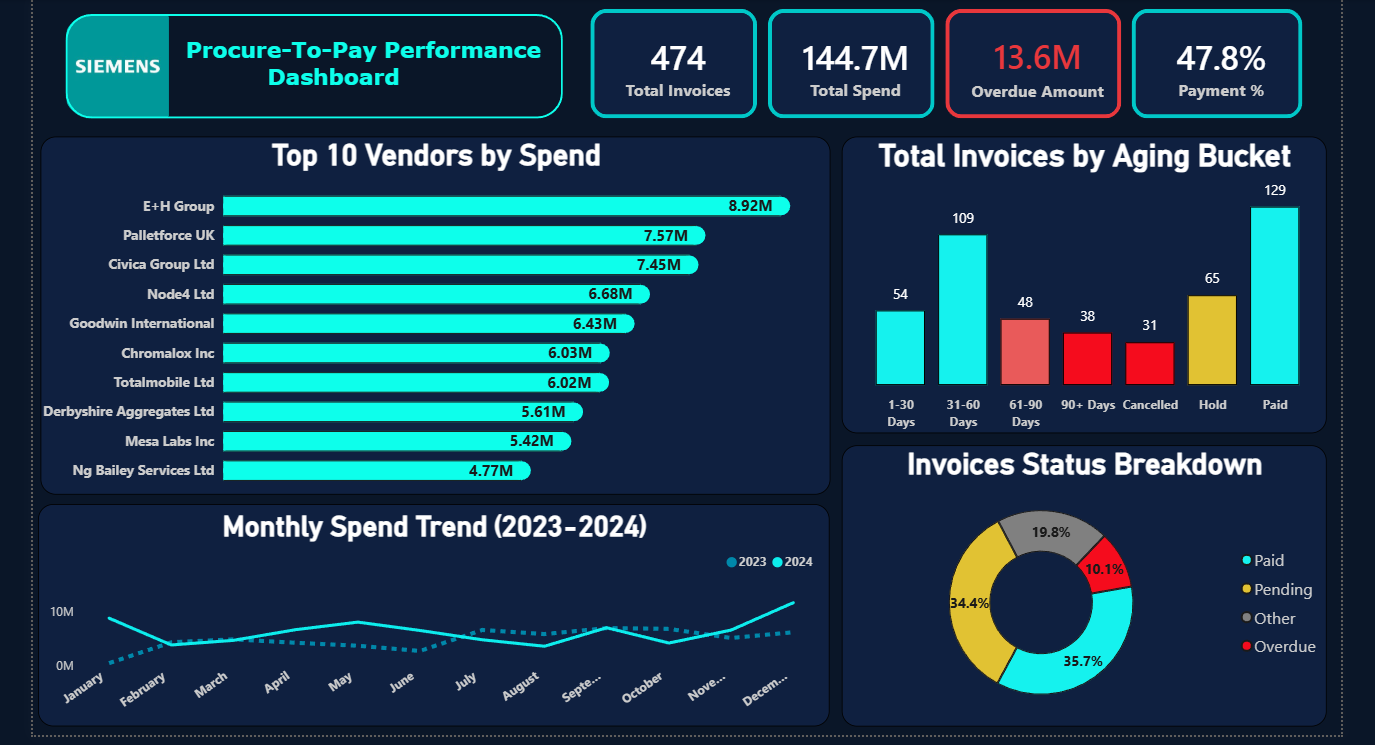

Layout of this report page (visuals, bound fields, positions):
{"tool":"powerbi","page":{"name":"Overview","canvas":[1280,720],"ordinal":0},"visuals":[{"type":"clusteredBarChart","title":"Top 10 Vendors by Spend","fields":{"Y":["Measures_.KPI - Total Spend"],"Category":["vendors_clean.vendor_name"]},"box":[6.8,135,773.1,350.4],"z":0},{"type":"donutChart","title":"Invoices Status Breakdown","fields":{"Y":["Measures_.Total Invoices"],"Category":["invoices_clean.Status Group"]},"box":[791.2,436.6,474.5,275.1],"z":1000},{"type":"lineChart","title":"Monthly Spend Trend (2023-2024)","fields":{"Category":["invoices_clean.invoice_date.Variation.Date Hierarchy.Month"],"Y":["Measures_.Total Spend"],"Series":["invoices_clean.invoice_date.Variation.Date Hierarchy.Year"]},"box":[4.9,494,774.1,217.7],"z":2000},{"type":"clusteredColumnChart","fields":{"Category":["invoices_clean.Aging Bucket"],"Y":["Measures_.Total Invoices"]},"box":[790.8,135,474.5,290.4],"z":3000},{"type":"cardVisual","fields":{"Data":["Measures_.Total Invoices"]},"box":[539.9,5.5,173.2,117.3],"z":4000},{"type":"cardVisual","fields":{"Data":["Measures_.Total Spend"]},"box":[714.4,5.5,173.2,117.3],"z":5000},{"type":"cardVisual","fields":{"Data":["Measures_.Overdue Amount"]},"box":[887.6,5.5,182.7,117.3],"z":6000},{"type":"cardVisual","fields":{"Data":["payments_clean.Payment Rate %"]},"box":[1070.3,5.5,177.2,117.3],"z":7000},{"type":"textbox","box":[81.8,13.6,424,99.5],"z":8000},{"type":"image","box":[31,16,104,100],"z":9000},{"type":"shape","box":[31.4,15,486.8,102.3],"z":10000}]}

Visuals, with their boxes on the page's 1280x720 design canvas (x1, y1, x2, y2). These are canvas units, not pixel positions in the 1375x745 screenshot, which may show the page scaled, cropped or inside an application window:
"Top 10 Vendors by Spend" clusteredBarChart: rect(7, 135, 780, 485)
"Invoices Status Breakdown" donutChart: rect(791, 437, 1266, 712)
"Monthly Spend Trend (2023-2024)" lineChart: rect(5, 494, 779, 712)
clusteredColumnChart - invoices_clean.Aging Bucket x Measures_.Total Invoices: rect(791, 135, 1265, 425)
cardVisual - Measures_.Total Invoices: rect(540, 6, 713, 123)
cardVisual - Measures_.Total Spend: rect(714, 6, 888, 123)
cardVisual - Measures_.Overdue Amount: rect(888, 6, 1070, 123)
cardVisual - payments_clean.Payment Rate %: rect(1070, 6, 1248, 123)
textbox: rect(82, 14, 506, 113)
image: rect(31, 16, 135, 116)
shape: rect(31, 15, 518, 117)
